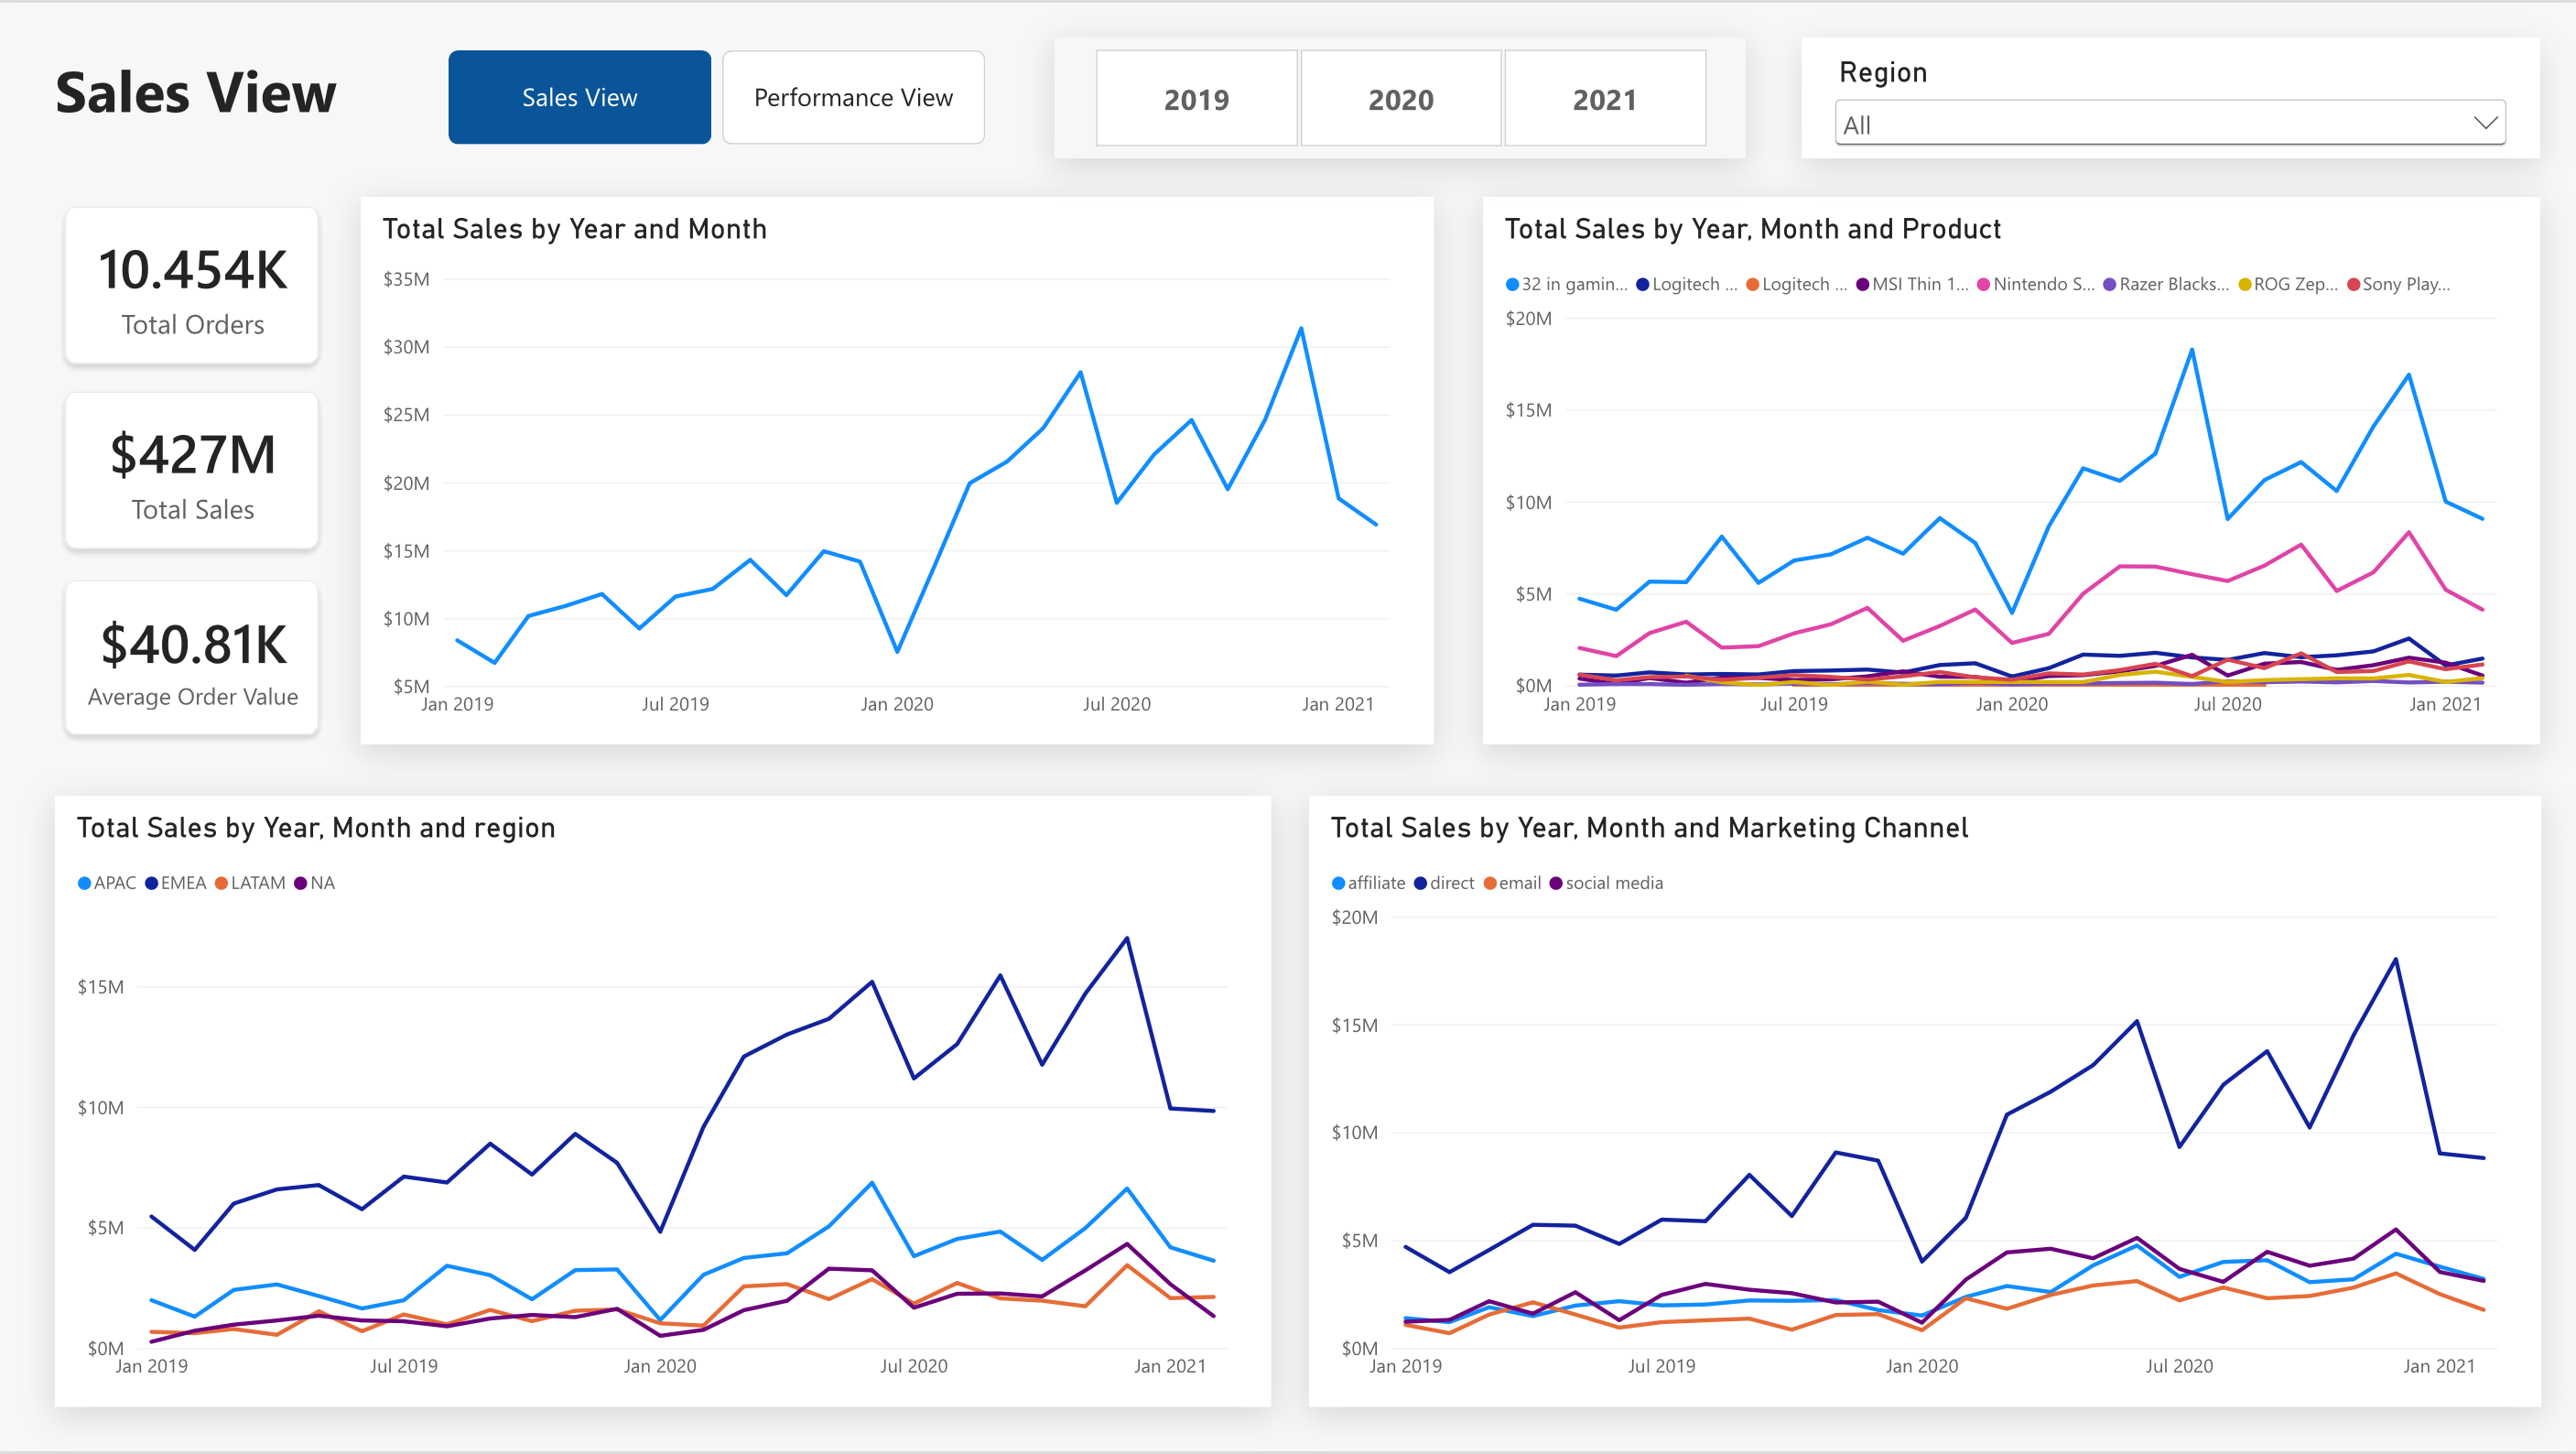

The dashboard page shown, as its layout file describes it:
{"tool":"powerbi","page":{"name":"Sales View","canvas":[1920,1080],"ordinal":0},"visuals":[{"type":"lineChart","fields":{"Category":["orders.purchase_date_cleaned.Variation.Date Hierarchy.Year","orders.purchase_date_cleaned.Variation.Date Hierarchy.Month"],"Y":["Sum(orders.price ($))"]},"box":[268.2,144.8,799.8,408.2],"z":0},{"type":"lineChart","fields":{"Category":["orders.purchase_date_cleaned.Variation.Date Hierarchy.Year","orders.purchase_date_cleaned.Variation.Date Hierarchy.Month"],"Series":["orders.product_name_cleaned"],"Y":["Sum(orders.price ($))"]},"box":[1106,144.8,787.9,408.2],"z":1},{"type":"lineChart","fields":{"Category":["orders.purchase_date_cleaned.Variation.Date Hierarchy.Year","orders.purchase_date_cleaned.Variation.Date Hierarchy.Month"],"Series":["region.region"],"Y":["Sum(orders.price ($))"]},"box":[40.3,591,906.6,455.7],"z":2},{"type":"lineChart","fields":{"Category":["orders.purchase_date_cleaned.Variation.Date Hierarchy.Year","orders.purchase_date_cleaned.Variation.Date Hierarchy.Month"],"Series":["orders.channel_cleaned"],"Y":["Sum(orders.price ($))"]},"box":[975.4,591,918.5,455.7],"z":3},{"type":"textbox","box":[40.3,35.6,294.3,61.7],"z":6},{"type":"cardVisual","fields":{"Data":["Avg(orders.price ($))"]},"box":[40.3,422.4,204.1,130.5],"z":7},{"type":"cardVisual","fields":{"Data":["Sum(orders.price ($))"]},"box":[40.3,282.4,204.1,132.9],"z":8},{"type":"cardVisual","fields":{"Data":["Count(orders.order_id)"]},"box":[40.3,144.8,204.1,132.9],"z":9},{"type":"slicer","title":"Year","fields":{"Values":["orders.purchase_date_cleaned.Variation.Date Hierarchy.Year"]},"box":[785.6,26.1,515,90.2],"z":10},{"type":"slicer","fields":{"Values":["region.region"]},"box":[1343.3,26.1,550.6,90.2],"z":11},{"type":"pageNavigator","box":[334.6,35.6,400,70],"z":12}]}

Visuals, with their boxes in screenshot pixels (x1, y1, x2, y2), scaled from the page's 1920x1080 canvas onto the 2576x1454 screenshot:
lineChart - orders.purchase_date_cleaned.Variation.Date Hierarchy.Year x orders.purchase_date_cleaned.Variation.Date Hierarchy.Month: rect(360, 195, 1433, 744)
lineChart - orders.purchase_date_cleaned.Variation.Date Hierarchy.Year x orders.purchase_date_cleaned.Variation.Date Hierarchy.Month: rect(1484, 195, 2541, 744)
lineChart - orders.purchase_date_cleaned.Variation.Date Hierarchy.Year x orders.purchase_date_cleaned.Variation.Date Hierarchy.Month: rect(54, 796, 1271, 1409)
lineChart - orders.purchase_date_cleaned.Variation.Date Hierarchy.Year x orders.purchase_date_cleaned.Variation.Date Hierarchy.Month: rect(1309, 796, 2541, 1409)
textbox: rect(54, 48, 449, 131)
cardVisual - Avg(orders.price ($)): rect(54, 569, 328, 744)
cardVisual - Sum(orders.price ($)): rect(54, 380, 328, 559)
cardVisual - Count(orders.order_id): rect(54, 195, 328, 374)
"Year" slicer: rect(1054, 35, 1745, 157)
slicer - region.region: rect(1802, 35, 2541, 157)
pageNavigator: rect(449, 48, 986, 142)
